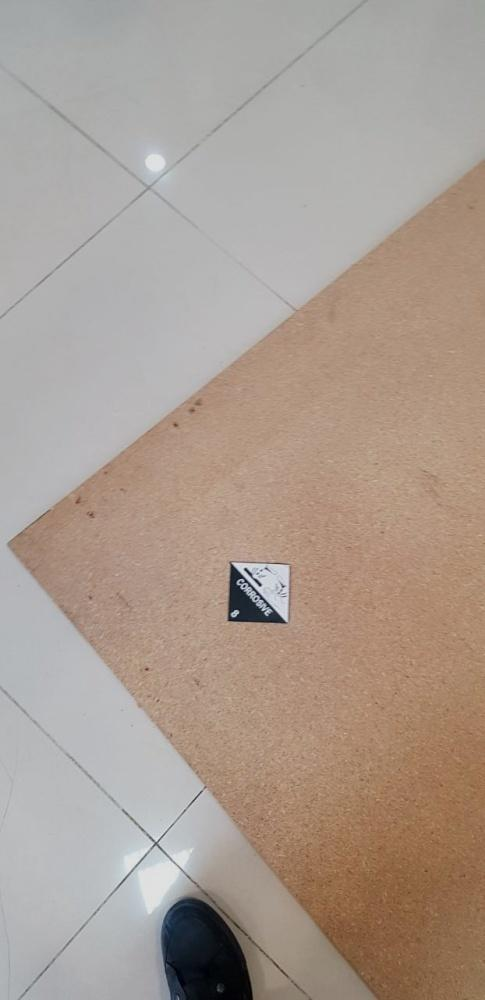corrosive: (223, 557, 295, 624)
